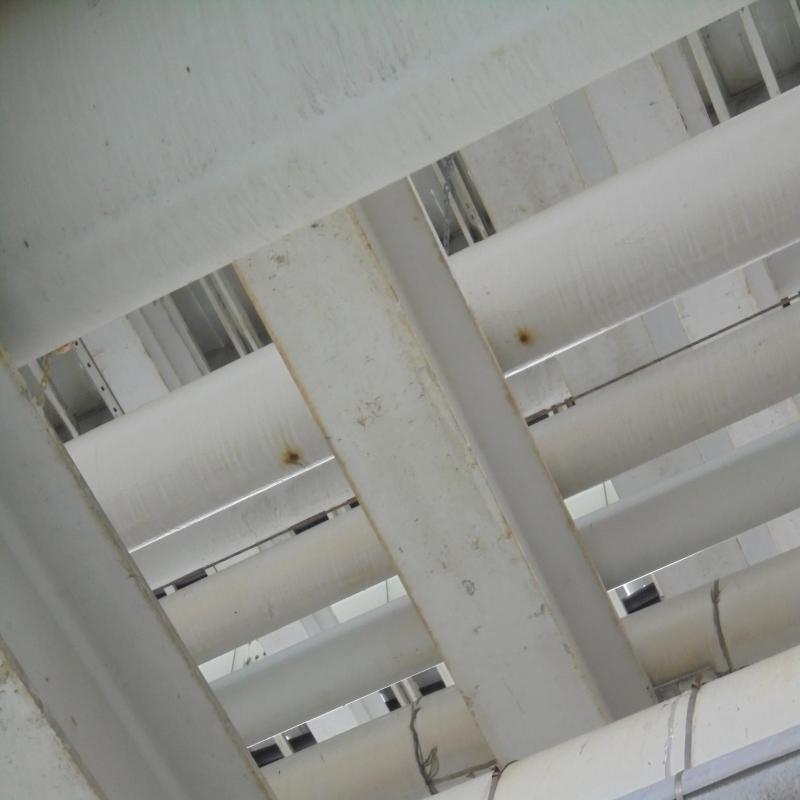corrosion: (284, 445, 302, 469), (518, 327, 532, 346)
